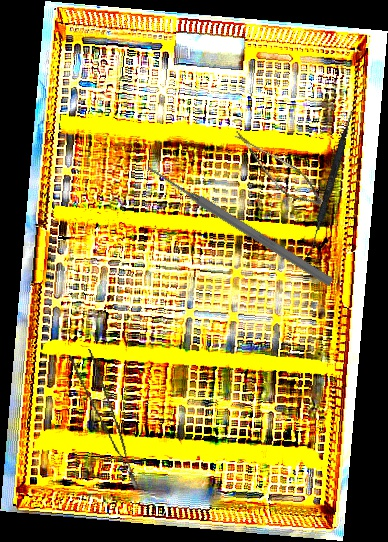Micro Scissor: (219, 129, 334, 212)
Pusher: (144, 161, 336, 289)
Spatula Surgical: (306, 108, 355, 259)
Tissue Forceps: (69, 346, 139, 498)
